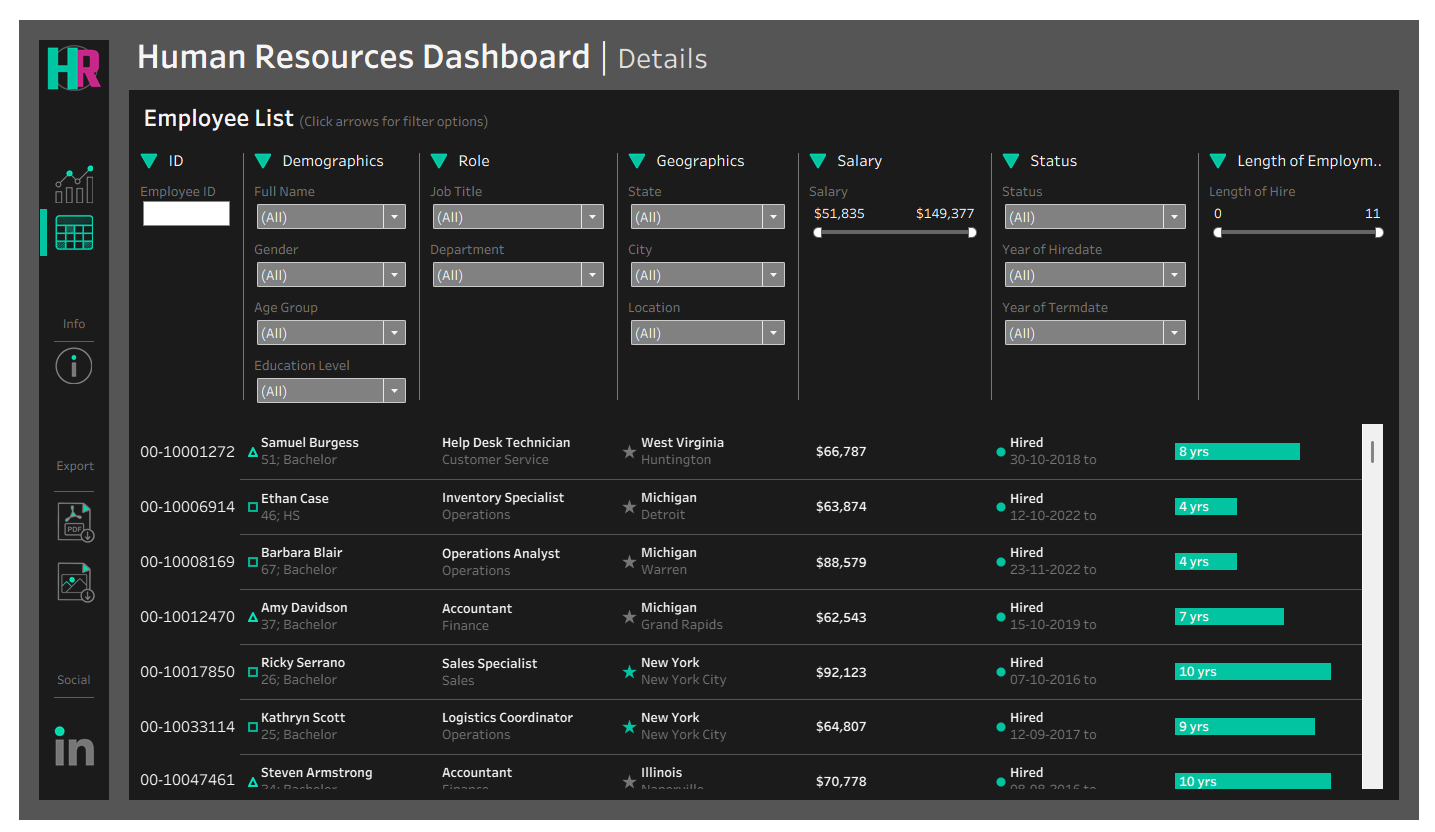

What the dashboard file says about the page in this screenshot:
{"tool":"tableau","page":{"name":"HR Details","canvas":[1400,800],"ordinal":0},"visuals":[{"type":"text","box":[110,0,1205,70]},{"type":"blank","box":[1315,0,65,70]},{"type":"image","param":"Image/Logo.png","box":[20,20,70,55]},{"type":"blank","box":[20,75,70,60]},{"type":"text","box":[117,77,1256,46]},{"type":"dashboard-object","box":[117,123,25,35]},{"type":"text","box":[142,123,76,35]},{"type":"blank","box":[218,123,13,267]},{"type":"dashboard-object","box":[231,123,25,35]},{"type":"text","box":[256,123,138,35]},{"type":"blank","box":[394,123,13,267]},{"type":"dashboard-object","box":[407,123,25,35]},{"type":"text","box":[432,123,160,35]},{"type":"blank","box":[592,123,13,267]},{"type":"dashboard-object","box":[605,123,25,35]},{"type":"text","box":[630,123,143,35]},{"type":"blank","box":[773,123,13,267]},{"type":"dashboard-object","box":[786,123,25,35]},{"type":"text","box":[811,123,155,35]},{"type":"blank","box":[966,123,13,267]},{"type":"dashboard-object","box":[979,123,25,35]},{"type":"text","box":[1003.9,123,169.5,35]},{"type":"blank","box":[1173.5,123,13,267]},{"type":"dashboard-object","box":[1186.5,123,25,35]},{"type":"text","box":[1211.4,123,161.5,35]},{"type":"dashboard-object","box":[30,145,50,38]},{"type":"filter","title":"Table","param":"[federated.0ifeorq1vb7msb108u6bx00xnawr].[none:Employee_ID:nk]","box":[117,158,101,55]},{"type":"filter","title":"Table","param":"[federated.0ifeorq1vb7msb108u6bx00xnawr].[none:Calculation_448389677344763906:nk","box":[231,158,163,58]},{"type":"filter","title":"Table","param":"[federated.0ifeorq1vb7msb108u6bx00xnawr].[none:Job Title:nk]","box":[407,158,185,58]},{"type":"filter","title":"Table","param":"[federated.0ifeorq1vb7msb108u6bx00xnawr].[none:State:nk]","box":[605,158,168,58]},{"type":"filter","title":"Table","param":"[federated.0ifeorq1vb7msb108u6bx00xnawr].[sum:Salary:qk]","box":[786,158,180,70]},{"type":"filter","title":"Table","param":"[federated.0ifeorq1vb7msb108u6bx00xnawr].[none:Calculation_1668302225002680320:n","box":[979,158,194.5,58]},{"type":"filter","title":"Table","param":"[federated.0ifeorq1vb7msb108u6bx00xnawr].[sum:Calculation_448389677347729411:qk]","box":[1186.5,158,186.5,70]},{"type":"blank","box":[30,183,50,10]},{"type":"blank","box":[21,189,7,47]},{"type":"dashboard-object","box":[30,193,50,38]},{"type":"filter","title":"Table","param":"[federated.0ifeorq1vb7msb108u6bx00xnawr].[none:Gender:nk]","box":[231,216,163,58]},{"type":"filter","title":"Table","param":"[federated.0ifeorq1vb7msb108u6bx00xnawr].[none:Department:nk]","box":[407,216,185,58]},{"type":"filter","title":"Table","param":"[federated.0ifeorq1vb7msb108u6bx00xnawr].[none:City:nk]","box":[605,216,168,58]},{"type":"filter","title":"Table","param":"[federated.0ifeorq1vb7msb108u6bx00xnawr].[yr:Hiredate:ok]","box":[979,216,194.5,58]},{"type":"blank","box":[30,231,50,60]},{"type":"text","box":[91,266,1309,248]},{"type":"filter","title":"Table","param":"[federated.0ifeorq1vb7msb108u6bx00xnawr].[none:Calculation_1385982823027527689:n","box":[231,274,163,58]},{"type":"filter","title":"Table","param":"[federated.0ifeorq1vb7msb108u6bx00xnawr].[none:Calculation_1385982823021449221:n","box":[605,274,168,58]},{"type":"filter","title":"Table","param":"[federated.0ifeorq1vb7msb108u6bx00xnawr].[yr:Termdate:ok]","box":[979,274,194.5,58]},{"type":"text","box":[30,291,50,25]},{"type":"blank","box":[30,316,50,11]},{"type":"dashboard-object","box":[30,327,50,37]},{"type":"filter","title":"Table","param":"[federated.0ifeorq1vb7msb108u6bx00xnawr].[none:Education Level:nk]","box":[231,332,163,58]},{"type":"blank","box":[30,364,50,60]},{"type":"worksheet","title":"Table","mark":"Shape","rows":["Employee_ID"],"cols":["Calculation_448389677344415745","Calculation_448389677344415745","Calculation_448389677344415745","Calculation_448389677344415745","Calculation_448389677344415745","Calculation_448389677347729411"],"box":[117,400,1256,373]},{"type":"text","box":[30,424,50,42]},{"type":"blank","box":[30,466,50,11]},{"type":"dashboard-object","box":[30,477,50,50]},{"type":"blank","box":[30,527,50,10]},{"type":"dashboard-object","box":[30,537,50,50]},{"type":"blank","box":[30,587,50,60]},{"type":"text","box":[30,647,50,25]},{"type":"blank","box":[30,672,50,11]},{"type":"image","param":"Image/contact-linkedin.png","box":[30,683,50,87]}]}

Visuals, with their boxes in screenshot pixels (x1, y1, x2, y2), scaled from the page's 1400x800 canvas onto the 1435x832 screenshot:
text: [left=113, top=0, right=1348, bottom=73]
blank: [left=1348, top=0, right=1414, bottom=73]
image: [left=20, top=21, right=92, bottom=78]
blank: [left=20, top=78, right=92, bottom=140]
text: [left=120, top=80, right=1407, bottom=128]
dashboard-object: [left=120, top=128, right=146, bottom=164]
text: [left=146, top=128, right=223, bottom=164]
blank: [left=223, top=128, right=237, bottom=406]
dashboard-object: [left=237, top=128, right=262, bottom=164]
text: [left=262, top=128, right=404, bottom=164]
blank: [left=404, top=128, right=417, bottom=406]
dashboard-object: [left=417, top=128, right=443, bottom=164]
text: [left=443, top=128, right=607, bottom=164]
blank: [left=607, top=128, right=620, bottom=406]
dashboard-object: [left=620, top=128, right=646, bottom=164]
text: [left=646, top=128, right=792, bottom=164]
blank: [left=792, top=128, right=806, bottom=406]
dashboard-object: [left=806, top=128, right=831, bottom=164]
text: [left=831, top=128, right=990, bottom=164]
blank: [left=990, top=128, right=1003, bottom=406]
dashboard-object: [left=1003, top=128, right=1029, bottom=164]
text: [left=1029, top=128, right=1203, bottom=164]
blank: [left=1203, top=128, right=1216, bottom=406]
dashboard-object: [left=1216, top=128, right=1242, bottom=164]
text: [left=1242, top=128, right=1407, bottom=164]
dashboard-object: [left=31, top=151, right=82, bottom=190]
"Table" filter: [left=120, top=164, right=223, bottom=222]
"Table" filter: [left=237, top=164, right=404, bottom=225]
"Table" filter: [left=417, top=164, right=607, bottom=225]
"Table" filter: [left=620, top=164, right=792, bottom=225]
"Table" filter: [left=806, top=164, right=990, bottom=237]
"Table" filter: [left=1003, top=164, right=1203, bottom=225]
"Table" filter: [left=1216, top=164, right=1407, bottom=237]
blank: [left=31, top=190, right=82, bottom=201]
blank: [left=22, top=197, right=29, bottom=245]
dashboard-object: [left=31, top=201, right=82, bottom=240]
"Table" filter: [left=237, top=225, right=404, bottom=285]
"Table" filter: [left=417, top=225, right=607, bottom=285]
"Table" filter: [left=620, top=225, right=792, bottom=285]
"Table" filter: [left=1003, top=225, right=1203, bottom=285]
blank: [left=31, top=240, right=82, bottom=303]
text: [left=93, top=277, right=1434, bottom=535]
"Table" filter: [left=237, top=285, right=404, bottom=345]
"Table" filter: [left=620, top=285, right=792, bottom=345]
"Table" filter: [left=1003, top=285, right=1203, bottom=345]
text: [left=31, top=303, right=82, bottom=329]
blank: [left=31, top=329, right=82, bottom=340]
dashboard-object: [left=31, top=340, right=82, bottom=379]
"Table" filter: [left=237, top=345, right=404, bottom=406]
blank: [left=31, top=379, right=82, bottom=441]
"Table" worksheet (Shape marks): [left=120, top=416, right=1407, bottom=804]
text: [left=31, top=441, right=82, bottom=485]
blank: [left=31, top=485, right=82, bottom=496]
dashboard-object: [left=31, top=496, right=82, bottom=548]
blank: [left=31, top=548, right=82, bottom=558]
dashboard-object: [left=31, top=558, right=82, bottom=610]
blank: [left=31, top=610, right=82, bottom=673]
text: [left=31, top=673, right=82, bottom=699]
blank: [left=31, top=699, right=82, bottom=710]
image: [left=31, top=710, right=82, bottom=801]
